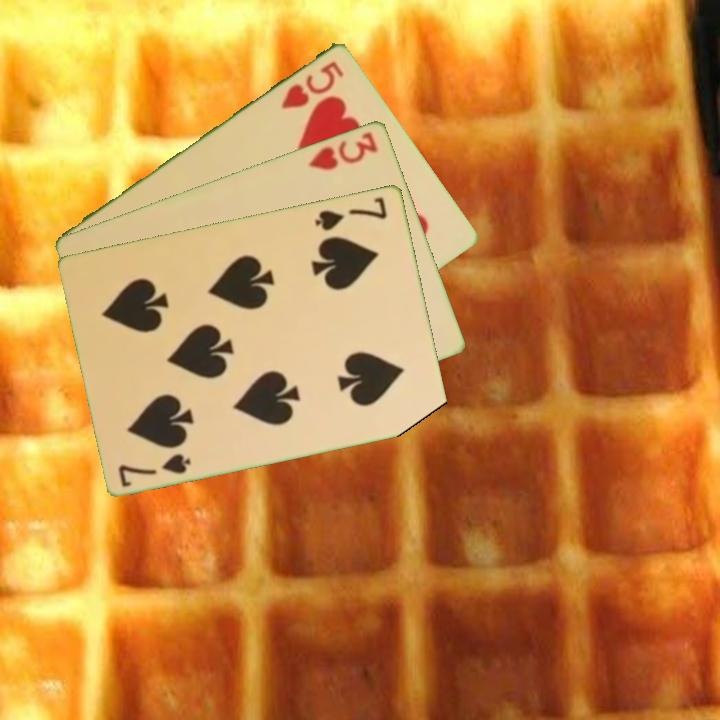3h: (306, 127, 381, 173)
5h: (278, 57, 347, 112)
7s: (115, 449, 194, 490), (311, 193, 390, 233)
